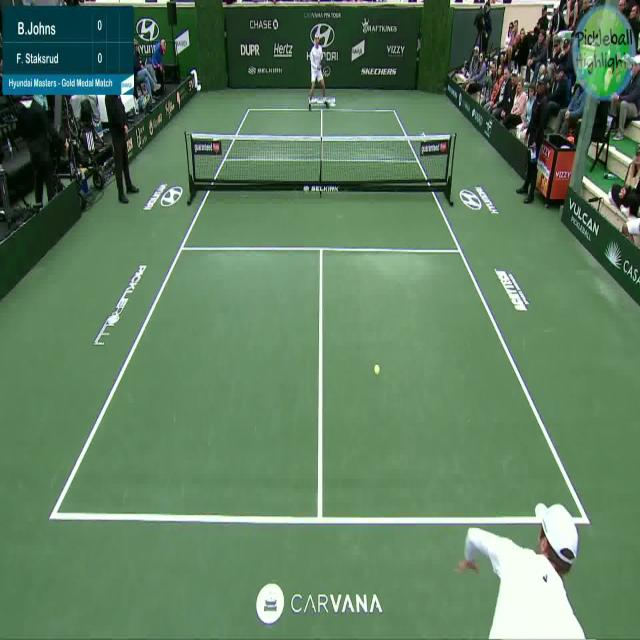ball: (373, 360, 381, 378)
